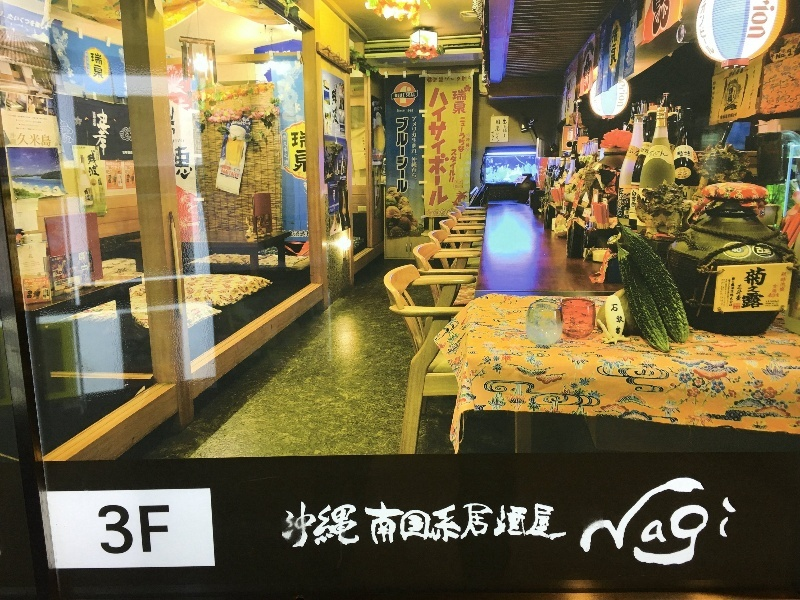text: (433, 87, 449, 208), (593, 472, 608, 568), (609, 472, 624, 568), (625, 472, 640, 568), (641, 472, 656, 568), (657, 472, 672, 568), (673, 472, 688, 568), (689, 472, 704, 568), (705, 472, 720, 568), (721, 472, 736, 568), (97, 502, 112, 556), (113, 502, 128, 556), (129, 502, 144, 556), (145, 502, 160, 556), (289, 498, 304, 551), (305, 498, 320, 551), (321, 498, 336, 551), (337, 498, 352, 551), (353, 498, 368, 551), (369, 498, 384, 551), (385, 498, 400, 551), (401, 498, 416, 551), (417, 498, 432, 551), (433, 498, 448, 551), (449, 498, 464, 551), (465, 498, 480, 551), (481, 498, 496, 551), (497, 498, 512, 551), (513, 498, 528, 551), (529, 498, 544, 551), (545, 498, 560, 551), (97, 109, 111, 157), (753, 266, 767, 311), (401, 116, 409, 194), (705, 1, 716, 57), (611, 22, 624, 68), (586, 472, 592, 568), (737, 472, 743, 568), (291, 131, 304, 174), (161, 502, 171, 556), (177, 145, 192, 181), (753, 5, 768, 39), (609, 303, 624, 336), (428, 87, 432, 208), (451, 149, 464, 184), (395, 116, 400, 194), (281, 498, 288, 551), (561, 498, 568, 551), (721, 279, 736, 303), (698, 1, 704, 57), (724, 278, 736, 306), (745, 266, 752, 311), (725, 279, 736, 307), (452, 90, 464, 115), (86, 150, 96, 177), (337, 84, 352, 102), (568, 80, 576, 111), (769, 5, 776, 39), (728, 279, 736, 308), (17, 132, 32, 147), (33, 132, 48, 147), (331, 82, 336, 126), (737, 283, 752, 297), (411, 116, 416, 157), (502, 118, 512, 138), (97, 52, 104, 80), (618, 186, 624, 218), (83, 188, 96, 202), (460, 117, 464, 160), (618, 80, 624, 108), (283, 134, 288, 166), (466, 137, 480, 148), (754, 245, 768, 256), (632, 189, 640, 208), (731, 277, 736, 307), (91, 52, 96, 80), (729, 85, 736, 105), (433, 75, 448, 84), (449, 75, 464, 84), (337, 82, 340, 126), (629, 146, 640, 158), (772, 283, 784, 294), (642, 146, 656, 155), (289, 230, 304, 238), (775, 48, 784, 61), (307, 230, 320, 239), (33, 280, 49, 287), (411, 157, 416, 179), (769, 293, 784, 300), (497, 119, 501, 143), (657, 150, 669, 158), (676, 150, 688, 158), (372, 99, 384, 107), (785, 48, 792, 61), (17, 115, 32, 121), (33, 115, 48, 121), (33, 278, 48, 284), (305, 131, 307, 174), (465, 117, 467, 160), (10, 132, 16, 146), (625, 80, 628, 108), (97, 150, 100, 177), (374, 105, 384, 113), (365, 136, 368, 162), (174, 145, 176, 181), (374, 154, 384, 161), (82, 266, 96, 271), (750, 5, 752, 39), (625, 303, 627, 336), (781, 271, 784, 293), (785, 271, 788, 293), (243, 121, 256, 126), (92, 111, 96, 127), (332, 188, 336, 204), (344, 214, 352, 222), (465, 75, 472, 84), (17, 120, 32, 124), (17, 127, 32, 131), (129, 166, 144, 170), (347, 181, 352, 193), (52, 257, 64, 262), (649, 150, 656, 158), (677, 171, 688, 176), (231, 172, 240, 178), (231, 120, 240, 126), (406, 93, 416, 98), (465, 90, 467, 115), (491, 131, 496, 141), (241, 117, 251, 122), (225, 169, 232, 176), (95, 109, 96, 157), (225, 164, 231, 172), (8, 115, 16, 121), (49, 132, 52, 147), (737, 294, 742, 303), (113, 166, 122, 171), (33, 127, 44, 131), (18, 124, 32, 127), (57, 279, 64, 285), (57, 281, 64, 287), (25, 278, 32, 284), (406, 109, 416, 113), (731, 246, 736, 254), (737, 246, 742, 254), (113, 161, 121, 166), (683, 192, 688, 200), (776, 293, 784, 298), (769, 299, 779, 303), (193, 145, 194, 181), (33, 120, 42, 124), (385, 157, 387, 175), (329, 183, 336, 188), (769, 245, 772, 256), (122, 151, 128, 156), (106, 161, 112, 166), (106, 166, 112, 171), (769, 304, 779, 307), (129, 151, 134, 156), (395, 93, 400, 98), (129, 161, 134, 166), (495, 119, 496, 143), (689, 150, 692, 158), (72, 146, 80, 149), (65, 281, 69, 287), (33, 124, 40, 127), (29, 253, 32, 260), (401, 93, 405, 98), (124, 166, 128, 171), (124, 161, 128, 166), (683, 188, 688, 192), (81, 146, 87, 149), (769, 303, 778, 305), (65, 279, 68, 285), (222, 164, 224, 172), (305, 230, 307, 238), (401, 109, 405, 113), (737, 303, 741, 307), (17, 132, 18, 146), (222, 169, 224, 176), (397, 109, 400, 113), (241, 120, 243, 126), (765, 299, 768, 303), (284, 230, 288, 233), (29, 246, 32, 250), (765, 304, 768, 307), (734, 303, 736, 307), (385, 154, 386, 161), (33, 253, 34, 260), (765, 303, 768, 305), (111, 166, 112, 171), (239, 117, 240, 122), (337, 183, 338, 188)
